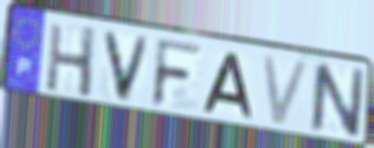A: (200, 50, 256, 122)
F: (149, 36, 205, 112)
H: (43, 22, 99, 101)
N: (308, 61, 368, 141)
V: (259, 52, 314, 130), (99, 27, 153, 106)
